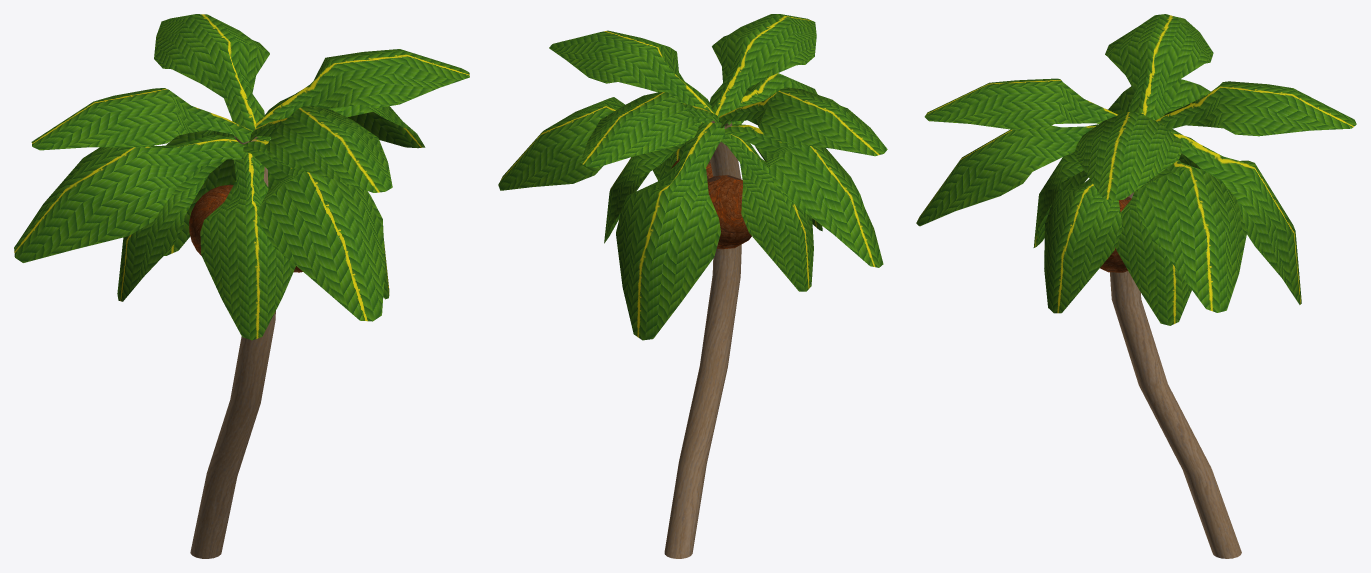
File: palmtreefinal.fbx
The picture shows the model from 3 angles, left to right: view 1: azimuth 30°, elevation 25°; view 2: azimuth 150°, elevation 25°; view 3: azimuth 270°, elevation 25°; orthographic projection. The views are drawn at different scales.
Visible parts, largest first — view 1: Plane.008, Plane.011, Plane.002, Plane.004, Plane.006, Plane.005, Plane.007, treetrunk, Plane.003, Plane.009, Plane, CoconutFred; view 2: Plane, treetrunk, Plane.011, Plane.003, Plane.007, Plane.004, Plane.006, Plane.005, Plane.009, CoconutFred, Plane.010, Plane.008; view 3: Plane.009, treetrunk, Plane.001, Plane.008, Plane.005, Plane.007, Plane.006, Plane.004, Plane, Plane.010, Plane.002, Plane.011.
Part boxes in pixels (x1,y1,x2,y2): Plane.008: (243, 136, 384, 321); Plane.011: (14, 134, 244, 262); Plane.002: (200, 152, 295, 340); Plane.004: (31, 88, 251, 150); Plane.006: (255, 49, 469, 136); Plane.005: (154, 14, 269, 132); Plane.007: (249, 105, 392, 192); treetrunk: (190, 136, 275, 558); Plane.003: (117, 160, 225, 301); Plane.009: (267, 90, 425, 148); Plane: (164, 130, 236, 255); CoconutFred: (189, 184, 233, 255); Plane: (616, 122, 725, 340); treetrunk: (664, 120, 741, 558); Plane.011: (724, 124, 883, 267); Plane.003: (721, 134, 813, 291); Plane.007: (709, 14, 816, 117); Plane.004: (719, 87, 887, 156); Plane.006: (549, 30, 714, 123); Plane.005: (580, 92, 719, 167); Plane.009: (498, 97, 701, 190); CoconutFred: (707, 175, 751, 249); Plane.010: (604, 142, 685, 243); Plane.008: (727, 73, 817, 124); Plane.009: (1136, 159, 1246, 312); treetrunk: (1110, 192, 1241, 558); Plane.001: (1044, 179, 1122, 313); Plane.008: (916, 124, 1097, 226); Plane.005: (1155, 81, 1356, 136); Plane.007: (924, 78, 1117, 130); Plane.006: (1074, 111, 1182, 200); Plane.004: (1105, 14, 1213, 120); Plane: (1169, 130, 1301, 304); Plane.010: (1116, 180, 1191, 325); Plane.002: (1033, 151, 1088, 247); Plane.011: (1108, 79, 1210, 117).
Size of the model in its own units: 849 by 993 by 834.
